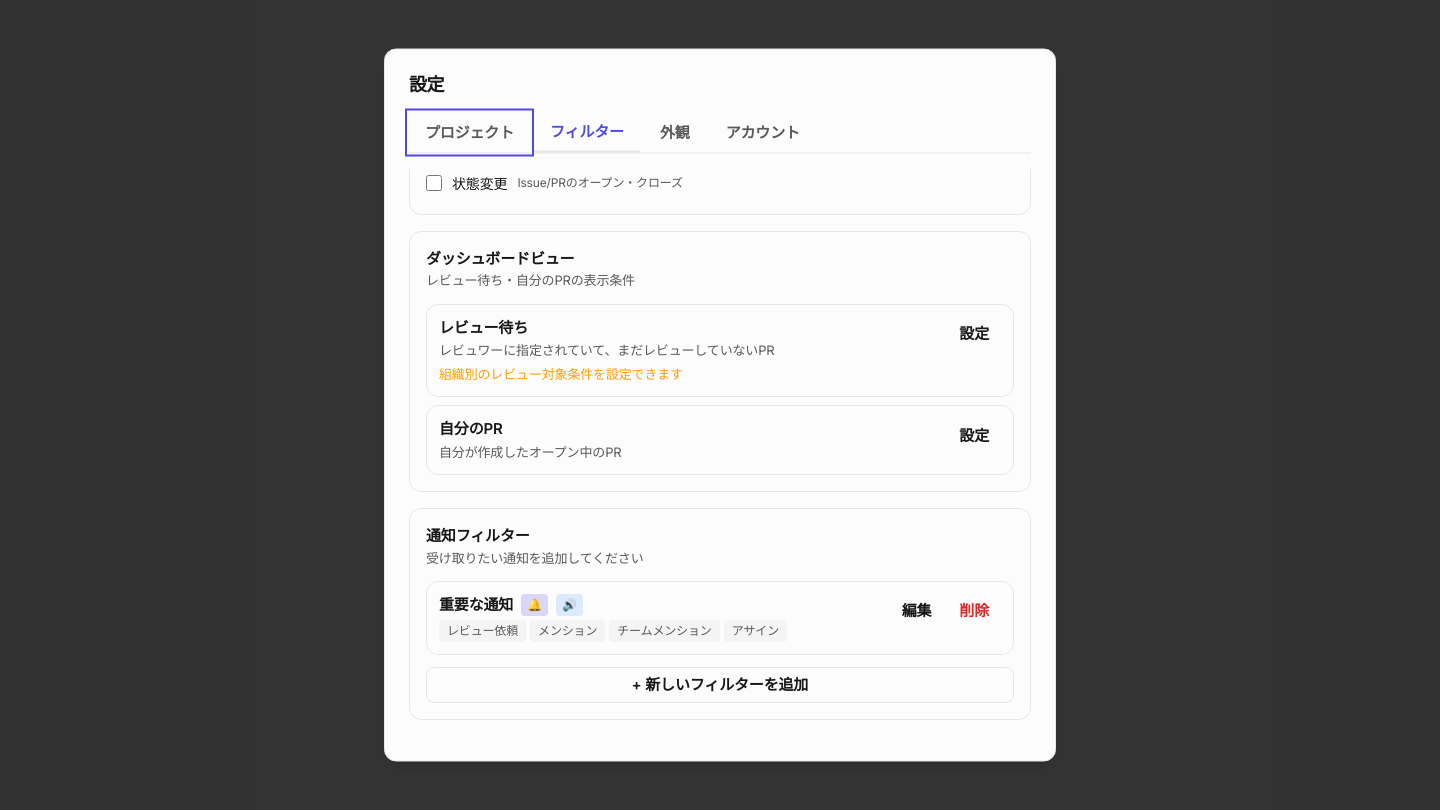
Test case: フィルター操作 › フィルター追加ボタンをクリックするとエディターが開く
The width and height of the screenshot is (1440, 810).
(page scrolled)
Click the button "+ 新しいフィルターを追加" at (720, 686), box [426,668,1014,704]
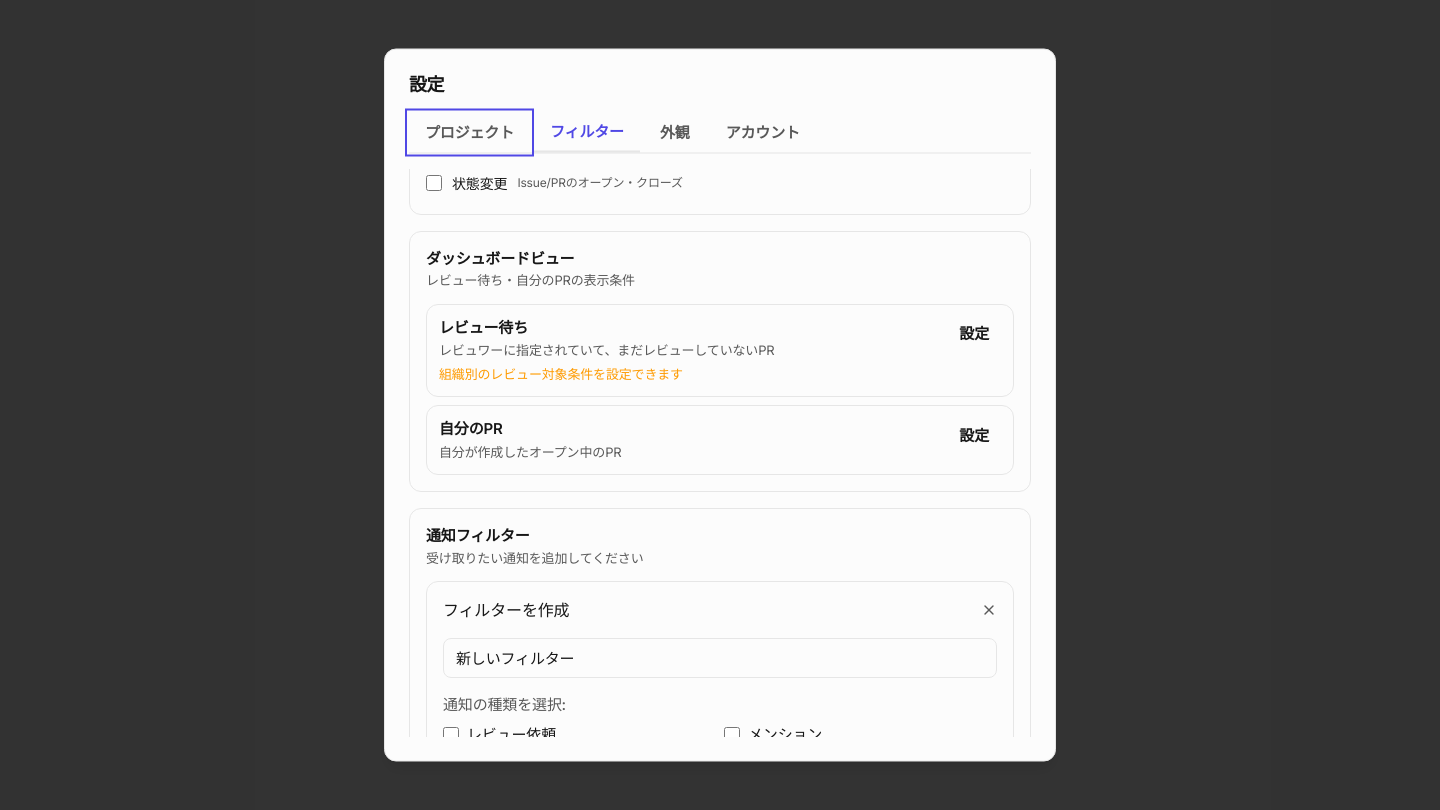
expect the heading "フィルターを作成" is shown: met, box [443,598,569,622]
